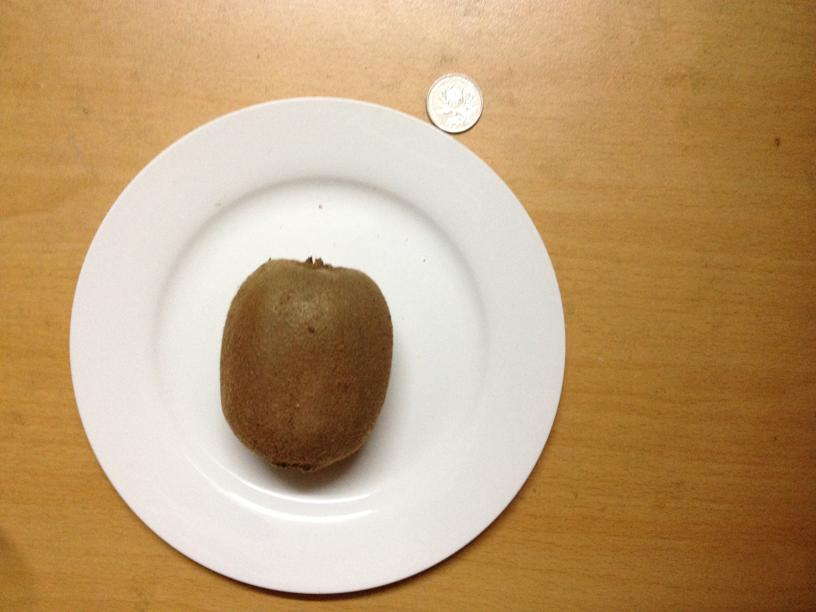coin: (422, 72, 483, 134)
qiwi: (217, 262, 393, 470)
